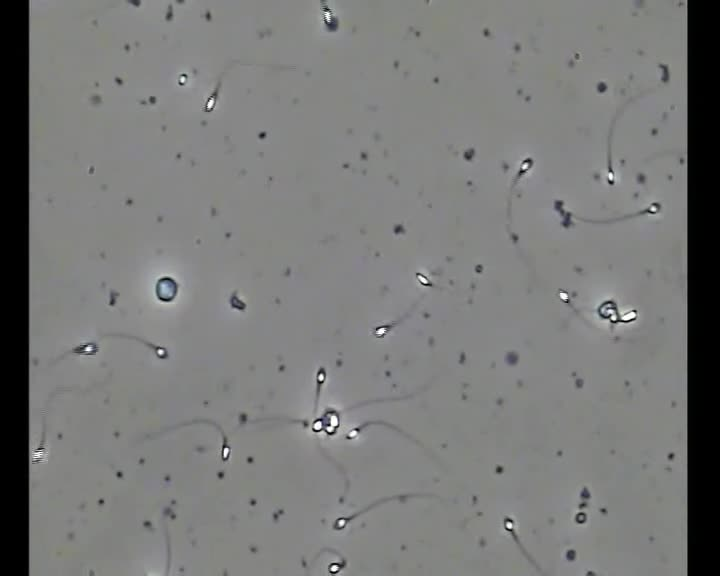spermhead: (155, 276, 178, 302), (322, 409, 340, 435), (596, 300, 617, 322), (203, 83, 216, 111), (517, 159, 533, 179), (71, 344, 95, 357), (376, 324, 395, 340), (620, 308, 637, 322), (220, 438, 230, 461), (416, 271, 431, 286), (323, 16, 338, 31), (328, 560, 344, 574), (503, 516, 515, 534), (333, 516, 348, 530), (556, 290, 571, 304), (35, 441, 46, 459), (646, 201, 661, 214), (315, 368, 327, 384), (153, 345, 167, 358), (345, 427, 360, 439), (311, 417, 323, 432), (318, 7, 329, 22), (606, 168, 615, 185), (177, 72, 188, 85)
